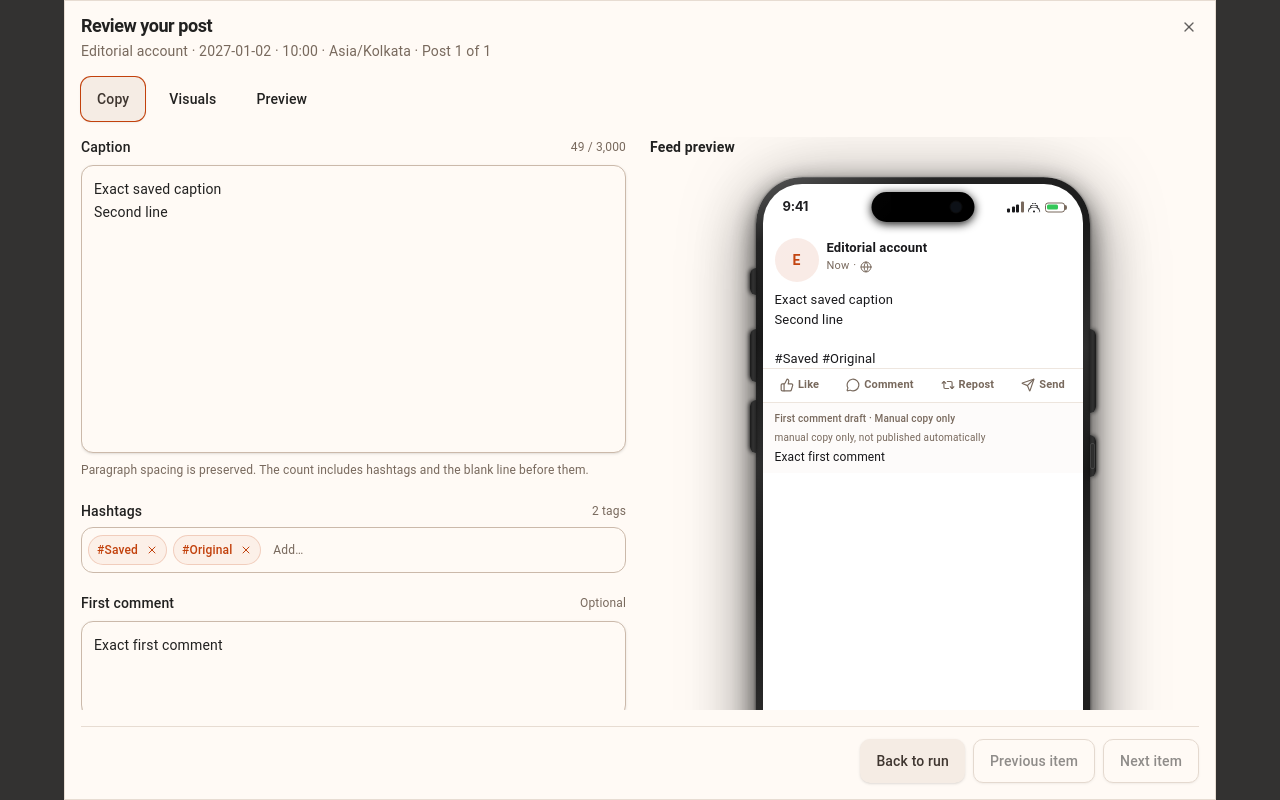
it: planner preview workspace › prevents unsaved copy from being approved or bound to an owned image
Replace the text in the text box labelled "Caption" with "Unsaved copy" at (354, 309), box left=81, top=165, right=626, bottom=453
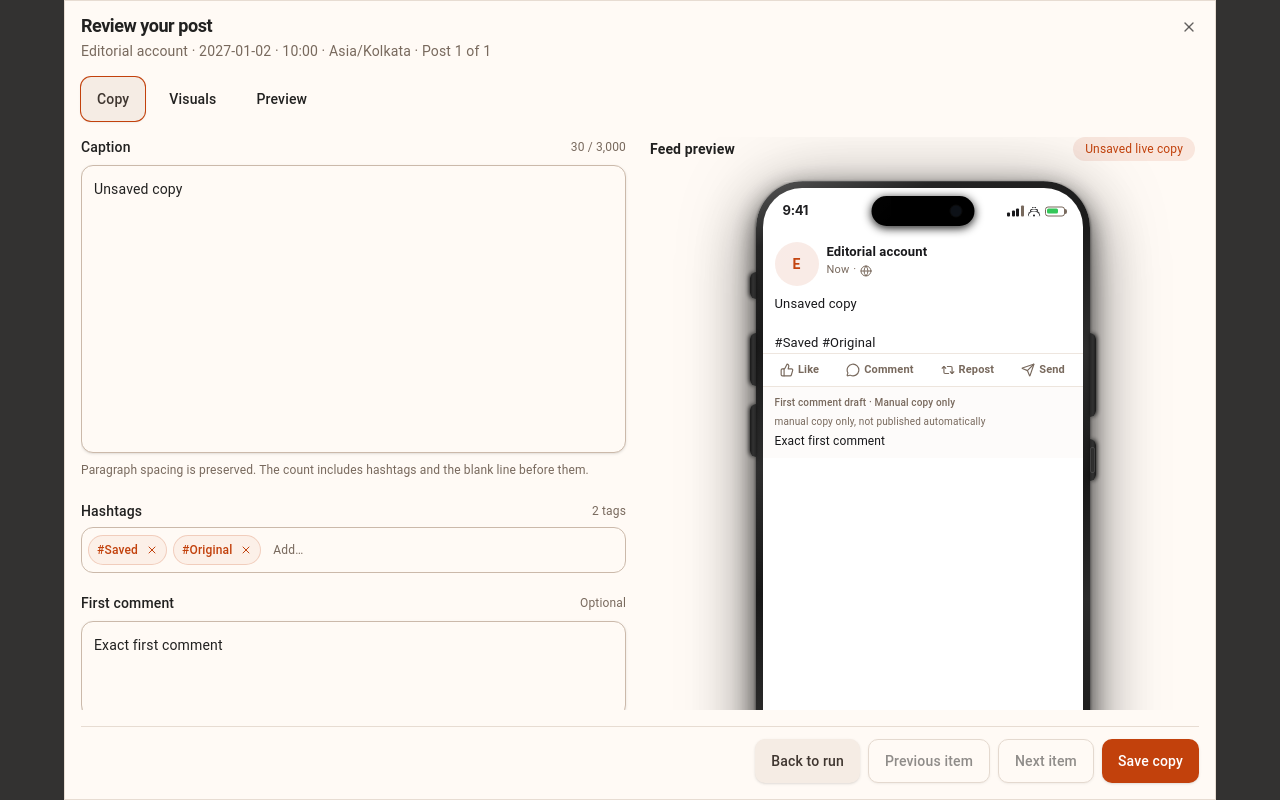
Click the button "Visuals" at (193, 99), box left=153, top=77, right=232, bottom=121
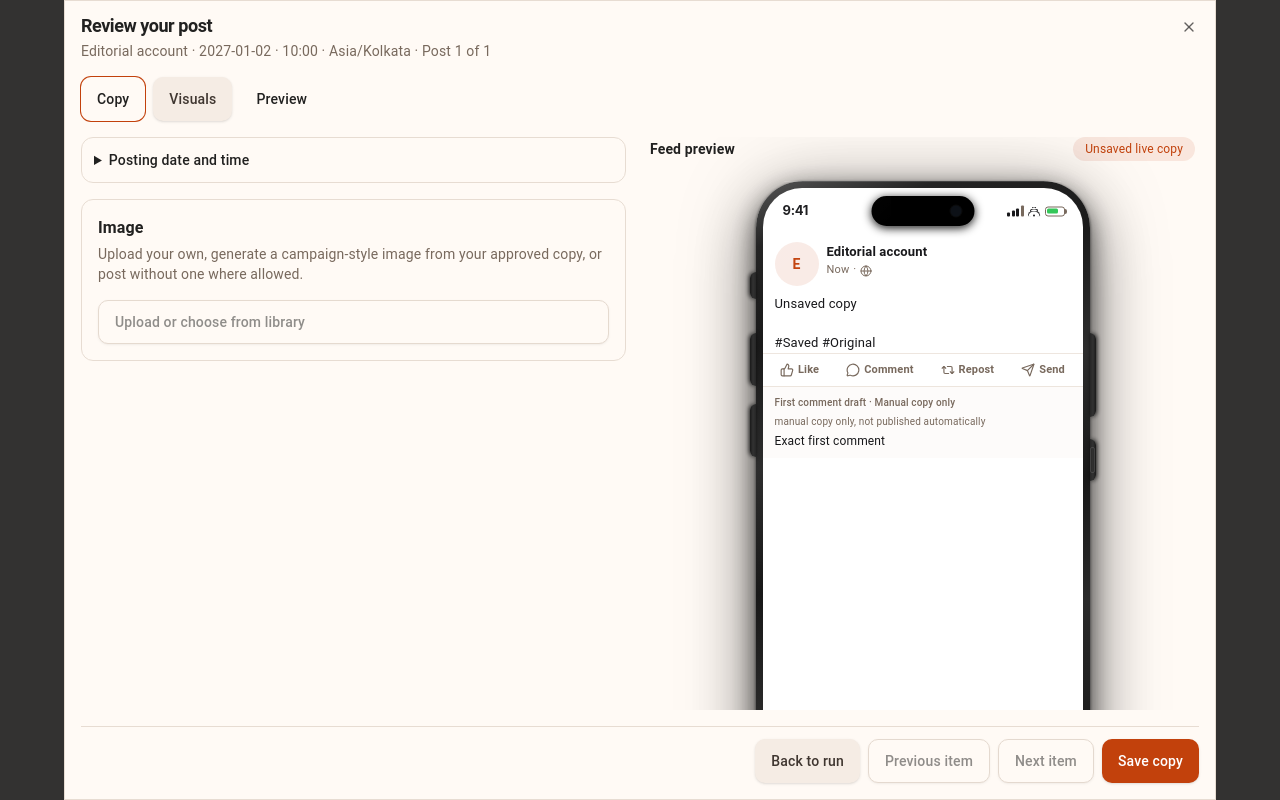
Now the text "Unsaved copy #Saved #Original" is shown, box left=774, top=296, right=876, bottom=350
Now the button "Upload or choose from library" is disabled, box left=98, top=300, right=609, bottom=344
